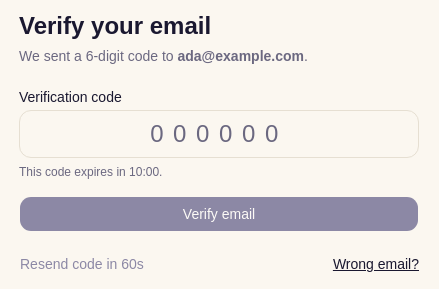
Test: VerifyEmailPage › keeps Verify disabled until 6 digits and cleans pasted codes
Expected: the button "Verify email" is disabled, top-left (19, 196), bottom-right (419, 232)
Click the field labelled "Verification code". click: (219,134)
box: top-left (19, 110), bottom-right (419, 158)
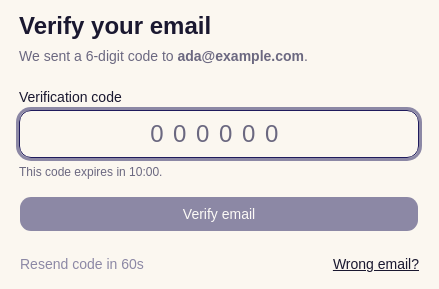
Type keys "123 456"
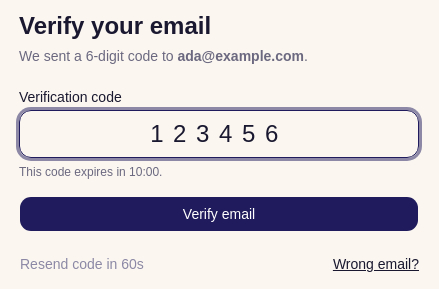
Expected: the field labelled "Verification code" holds "123456", top-left (19, 110), bottom-right (419, 158)
Expected: the button "Verify email" is enabled, top-left (19, 196), bottom-right (419, 232)
